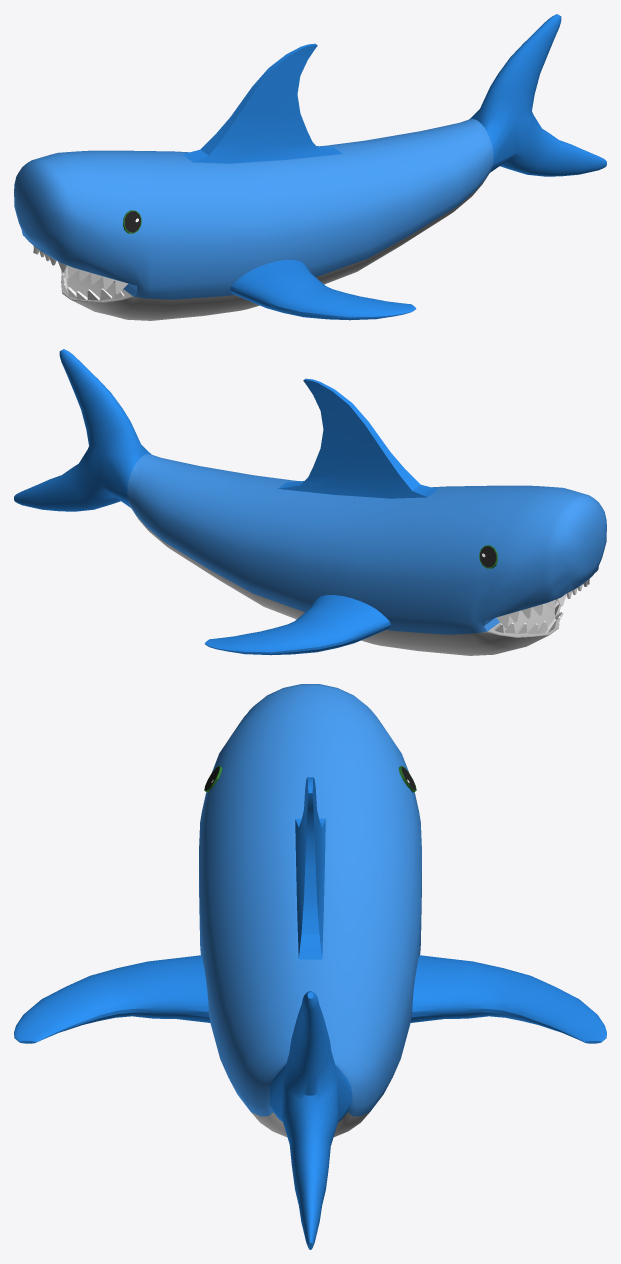
The model's file is Toy_Shark.fbx.
The picture shows the model from 3 angles, top to bottom: view 1: azimuth 30°, elevation 25°; view 2: azimuth 150°, elevation 25°; view 3: azimuth 270°, elevation 25°; orthographic projection. The views are drawn at different scales.
Parts seen in each view (by area): view 1: Toy_Shark; view 2: Toy_Shark; view 3: Toy_Shark.
Boxes of the visible parts, x1=… form: Toy_Shark: x1=14, y1=14, x2=606, y2=320; Toy_Shark: x1=14, y1=349, x2=606, y2=655; Toy_Shark: x1=14, y1=684, x2=606, y2=1249.
Bounding box in the file's own units: 70.91 × 28.04 × 45.9.
1 material, 1 textured.
